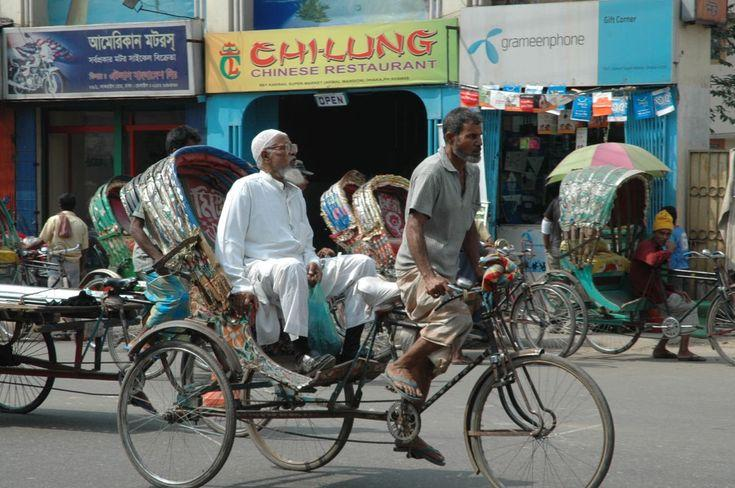Rickshaw: (109, 134, 620, 487), (560, 163, 734, 363), (353, 175, 409, 271), (88, 177, 133, 277), (321, 170, 364, 250)
